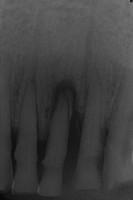Furcation Involvement: (50, 79, 78, 121)
